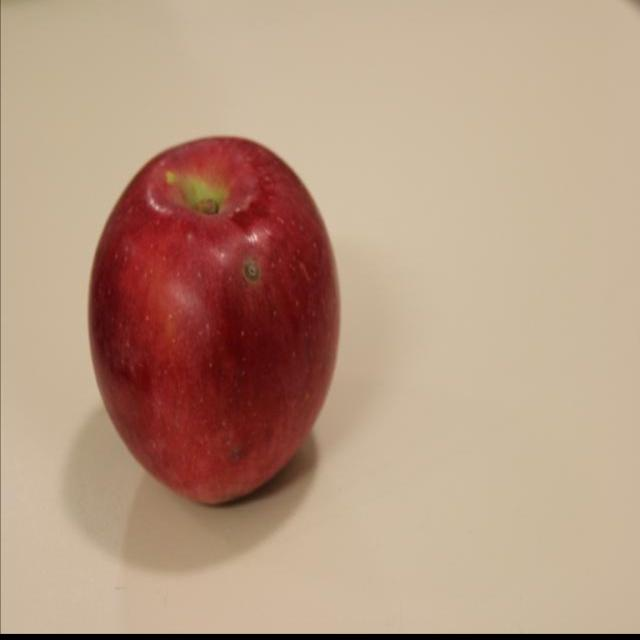red apple: (88, 133, 343, 506)
